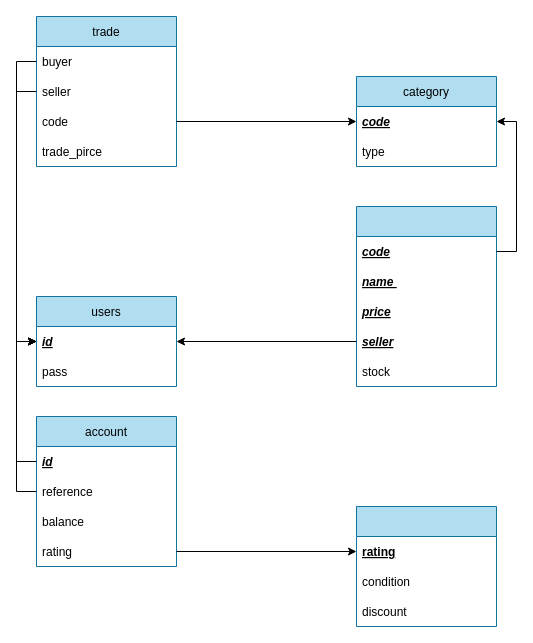
Some shapes in this 533 by 643 pixel diagram are drawn without their labels. Here are the shapes that lost their labels. From the top down, the box of each, then its label:
(356, 206, 496, 386): items
(356, 506, 496, 626): rating_info
